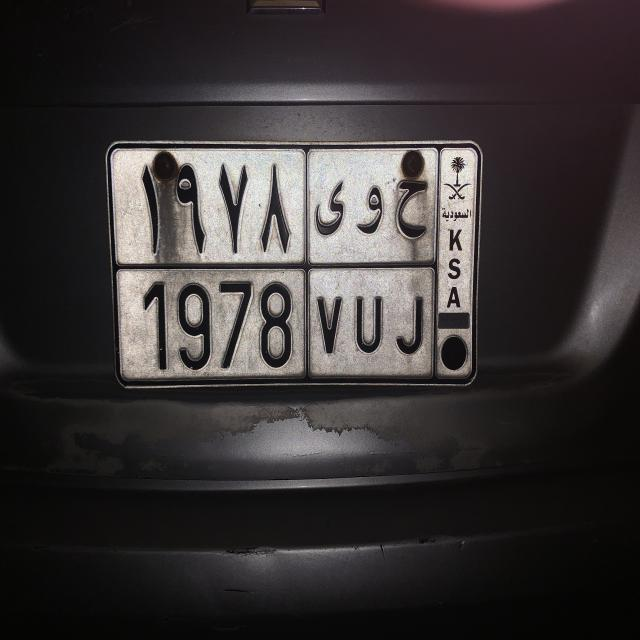license_plate: (100, 134, 486, 393)
